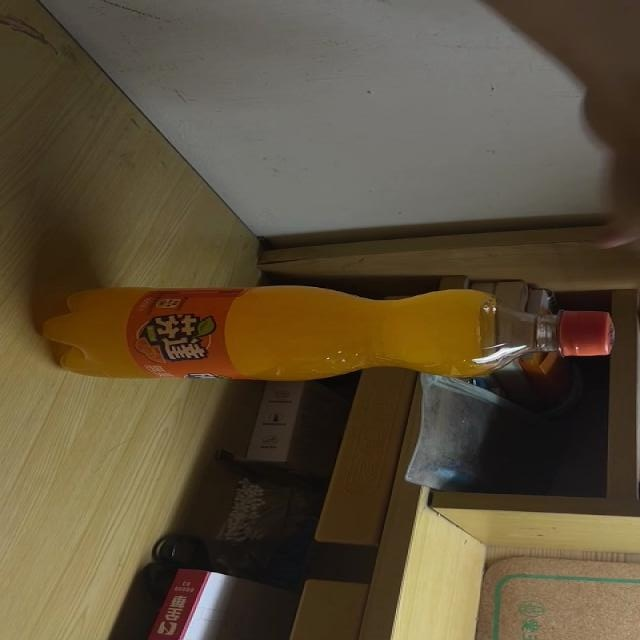Fanta: (42, 285, 614, 382)
